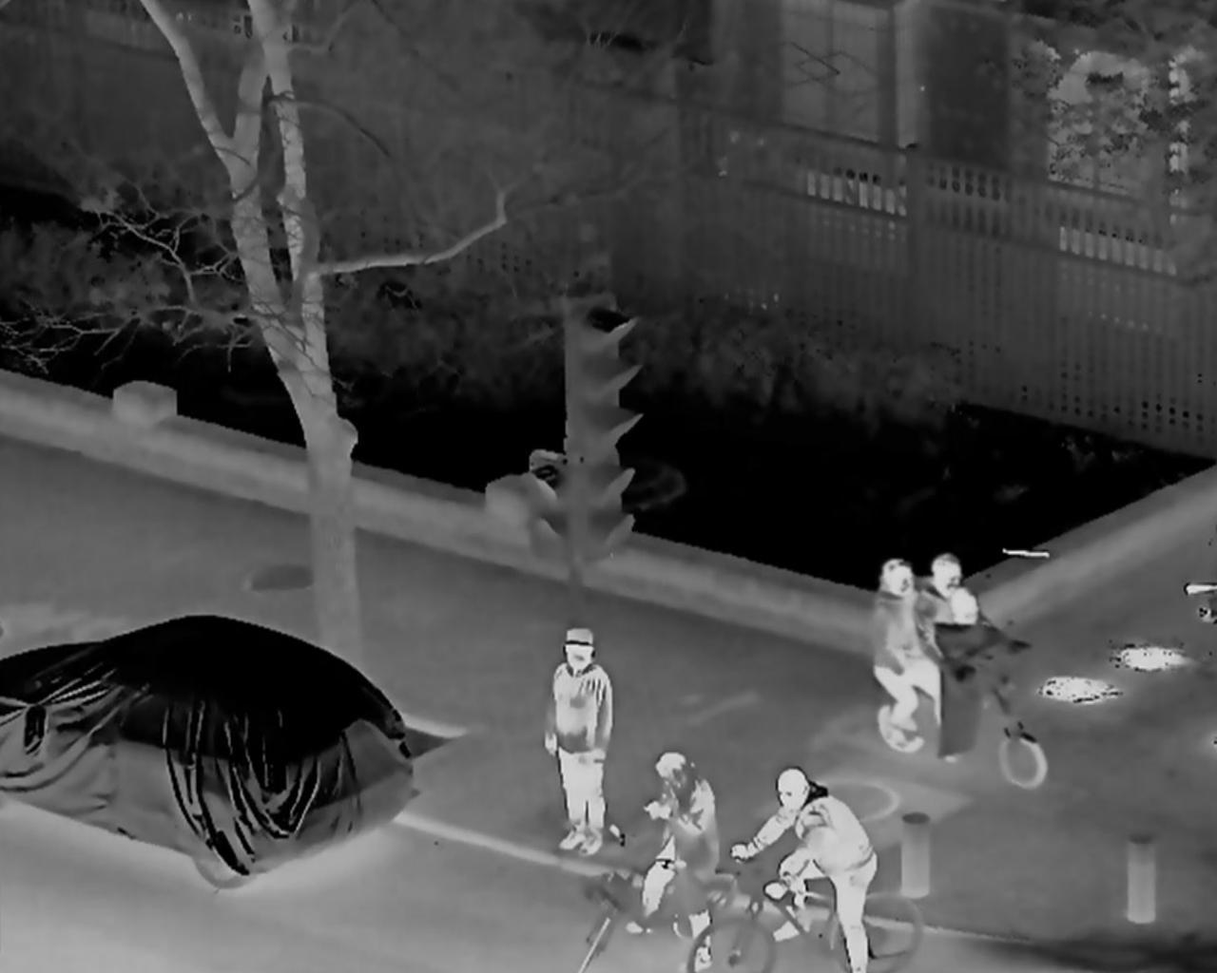person: (728, 770, 877, 973), (628, 752, 725, 970), (541, 629, 612, 860), (907, 554, 999, 728), (871, 560, 949, 754)
